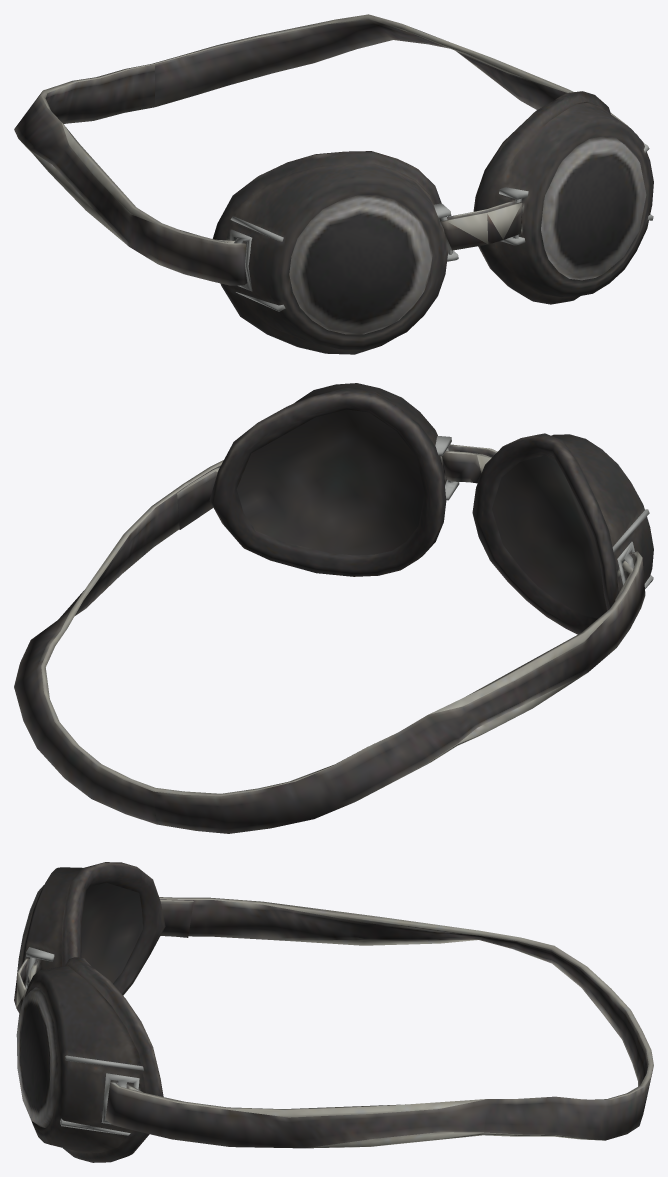
The model's file is WeldingGoggles_Ground.fbx.
3 views of the same model, one above another, from view 1: azimuth 30°, elevation 25°; view 2: azimuth 150°, elevation 25°; view 3: azimuth 270°, elevation 25° (orthographic). The views are drawn at different scales.
Visible parts, largest first — view 1: WeldingGoggles; view 2: WeldingGoggles; view 3: WeldingGoggles.
Boxes of the visible parts, x1=… form: WeldingGoggles: x1=14, y1=14, x2=653, y2=354; WeldingGoggles: x1=14, y1=383, x2=653, y2=833; WeldingGoggles: x1=14, y1=862, x2=653, y2=1162.
Bounding box in the file's own units: 0.0928 × 0.0376 × 0.1187.
